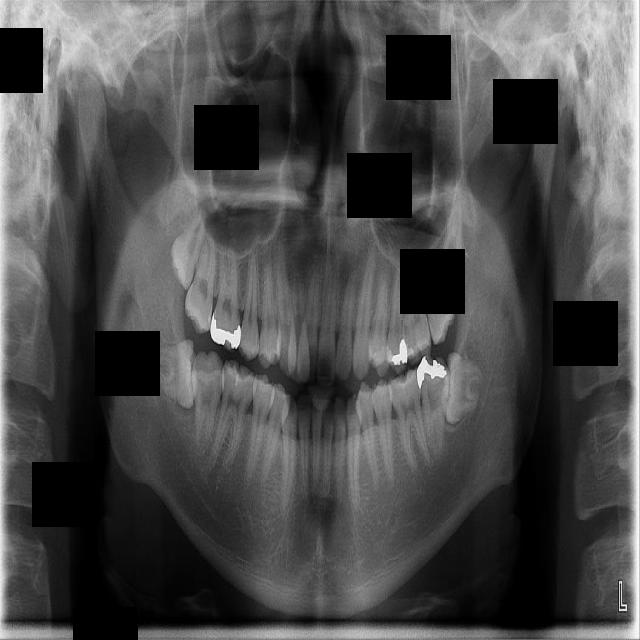3M ESPE Implant: (161, 201, 212, 291)
52: (213, 355, 266, 404), (201, 311, 248, 355), (382, 365, 428, 406), (399, 323, 435, 367), (416, 356, 450, 390), (386, 339, 407, 376), (398, 373, 410, 385)
73: (562, 570, 576, 580)
BioHorizons Implant: (411, 244, 463, 347)
BioLife Implant: (435, 175, 464, 293)
Biomet 3i Implant: (435, 350, 486, 427)
Blue Sky Bio Implant: (411, 354, 451, 461)
Caries: (181, 225, 222, 338)
Implant: (191, 350, 226, 448)
Keystone Dental Implant: (156, 337, 199, 410)
